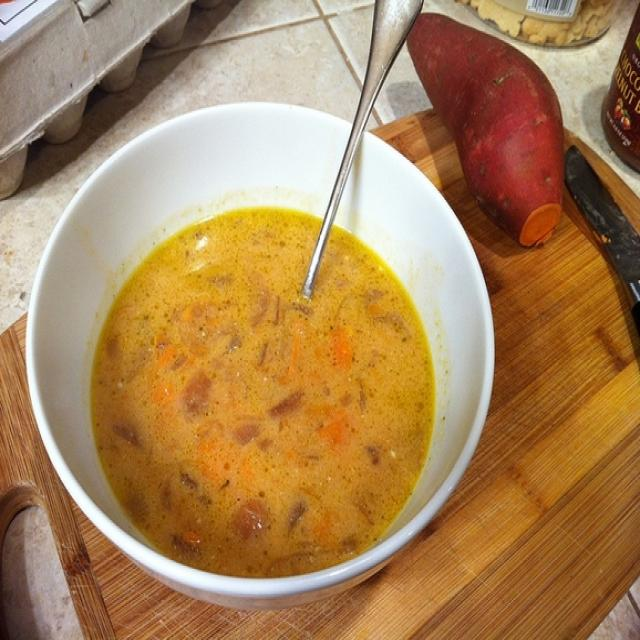汤锅炖物: (36, 71, 500, 578)
